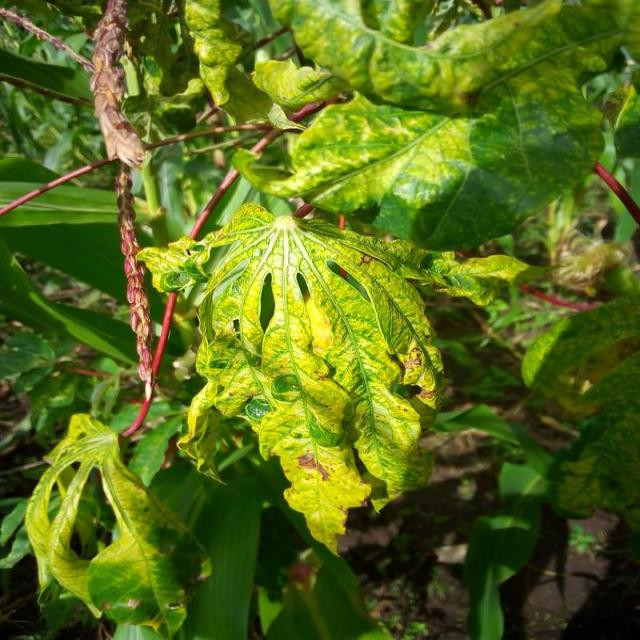cassava leaf: (160, 200, 449, 557), (240, 0, 634, 252), (26, 410, 211, 634)
